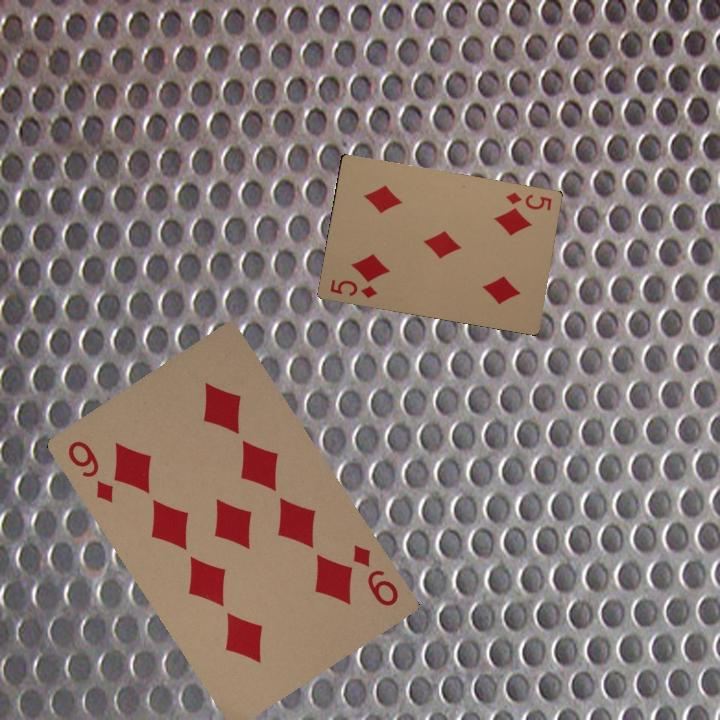5d: (326, 275, 379, 300), (502, 188, 555, 213)
9d: (348, 540, 402, 609), (63, 436, 116, 506)
